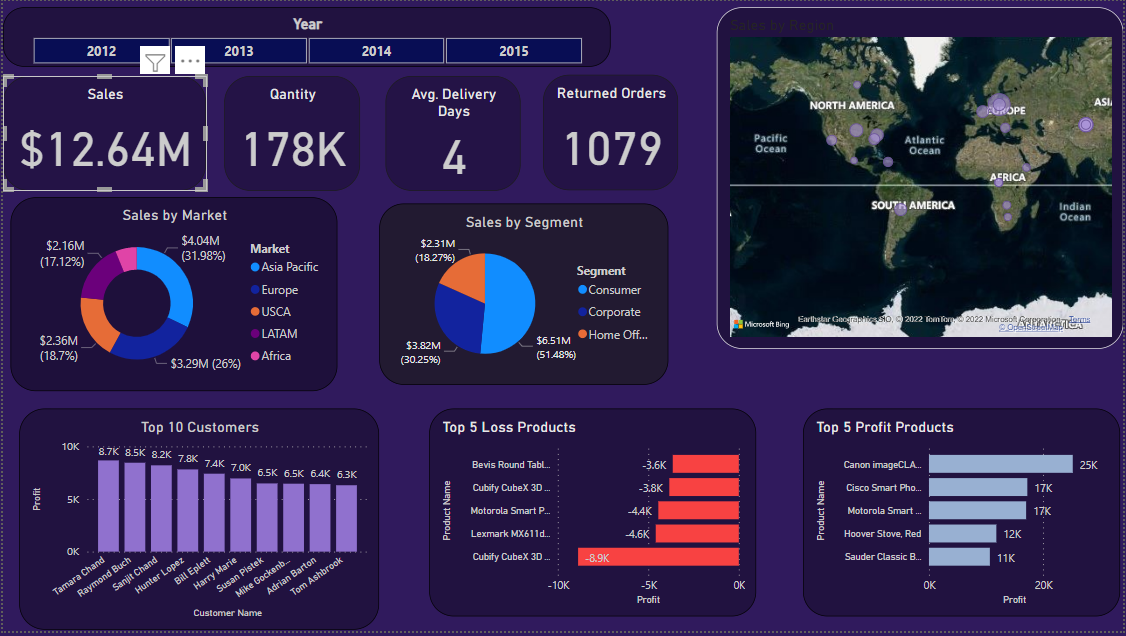

What the dashboard file says about the page in this screenshot:
{"tool":"powerbi","page":{"name":"Page 1","canvas":[1280,720],"ordinal":0},"visuals":[{"type":"card","title":"Sales","fields":{"Values":["Orders.Sales"]},"box":[0,85.6,232.2,131.1],"z":0},{"type":"card","title":"Qantity","fields":{"Values":["Orders.Quantity"]},"box":[252.2,85.6,155.6,131.1],"z":1000},{"type":"card","title":"Avg. Delivery Days","fields":{"Values":["Orders.Delivery Days"]},"box":[437.8,85.6,154.4,131.1],"z":2000},{"type":"slicer","title":"Year","fields":{"Values":["Orders.Year"]},"box":[0,7.8,694.4,67.8],"z":2001},{"type":"card","title":"Returned Orders","fields":{"Values":["Returns.Return Orders"]},"box":[616.7,84.4,154.4,132.2],"z":2002},{"type":"map","fields":{"Category":["Orders.Region"],"Size":["Orders.Sales"]},"box":[815,7.5,465,390],"z":2003},{"type":"barChart","title":"Top 5 Profit Products","fields":{"Category":["Orders.Product Name"],"Y":["Orders.Profit"]},"box":[914.3,466.3,362.5,237.5],"z":2004},{"type":"barChart","title":"Top  5 Loss Products","fields":{"Category":["Orders.Product Name"],"Y":["Orders.Profit"]},"box":[487.5,466.2,373.8,237.5],"z":2005},{"type":"pieChart","fields":{"Category":["Orders.Segment"],"Y":["Orders.Sales"]},"box":[430.3,231.5,330,207.5],"z":2006},{"type":"donutChart","fields":{"Category":["Orders.Market"],"Y":["Orders.Sales"]},"box":[8.8,223.8,373.8,221.2],"z":2007},{"type":"columnChart","title":"Top 10 Customers","fields":{"Y":["Orders.Profit"],"Category":["Orders.Customer Name"]},"box":[18.8,466.2,411.2,252.5],"z":2008}]}

Visuals, with their boxes in screenshot pixels (x1, y1, x2, y2), scaled from the page's 1280x720 canvas onto the 1126x636 screenshot:
"Sales" card: l=0, t=76, r=204, b=191
"Qantity" card: l=222, t=76, r=359, b=191
"Avg. Delivery Days" card: l=385, t=76, r=521, b=191
"Year" slicer: l=0, t=7, r=611, b=67
"Returned Orders" card: l=543, t=75, r=678, b=191
map - Orders.Region x Orders.Sales: l=717, t=7, r=1125, b=351
"Top 5 Profit Products" barChart: l=804, t=412, r=1123, b=622
"Top  5 Loss Products" barChart: l=429, t=412, r=758, b=622
pieChart - Orders.Segment x Orders.Sales: l=379, t=204, r=669, b=388
donutChart - Orders.Market x Orders.Sales: l=8, t=198, r=337, b=393
"Top 10 Customers" columnChart: l=17, t=412, r=378, b=635
